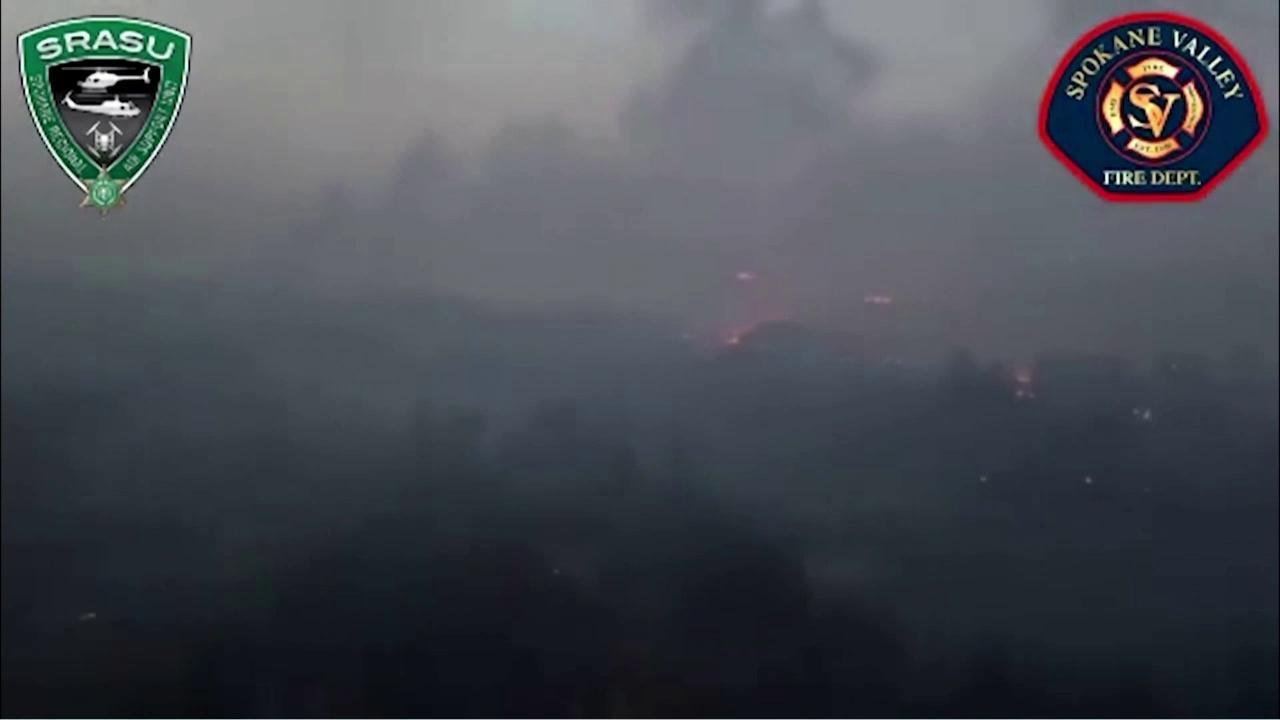fire: (861, 290, 892, 306), (724, 330, 744, 348), (1015, 373, 1036, 383), (736, 272, 753, 283)
smoke: (3, 0, 1280, 717)
